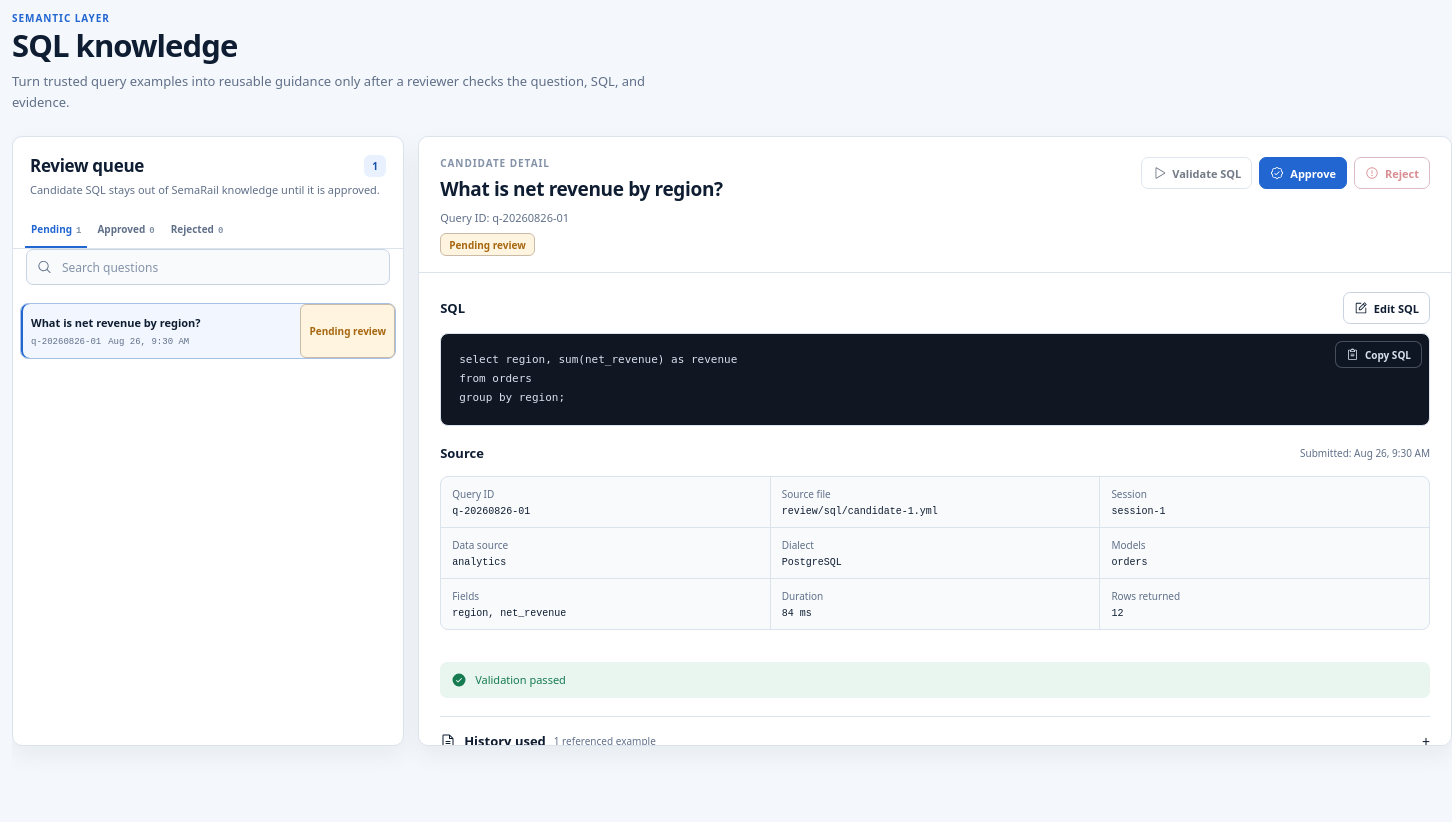
Test case: SqlKnowledgeWorkbench › invalidates stale validation whenever reviewed SQL is edited
Expected: the button "Approve" is enabled, [1259,157,1347,189]
Click the button "Edit SQL" at (1386, 308), box [1343,292,1430,324]
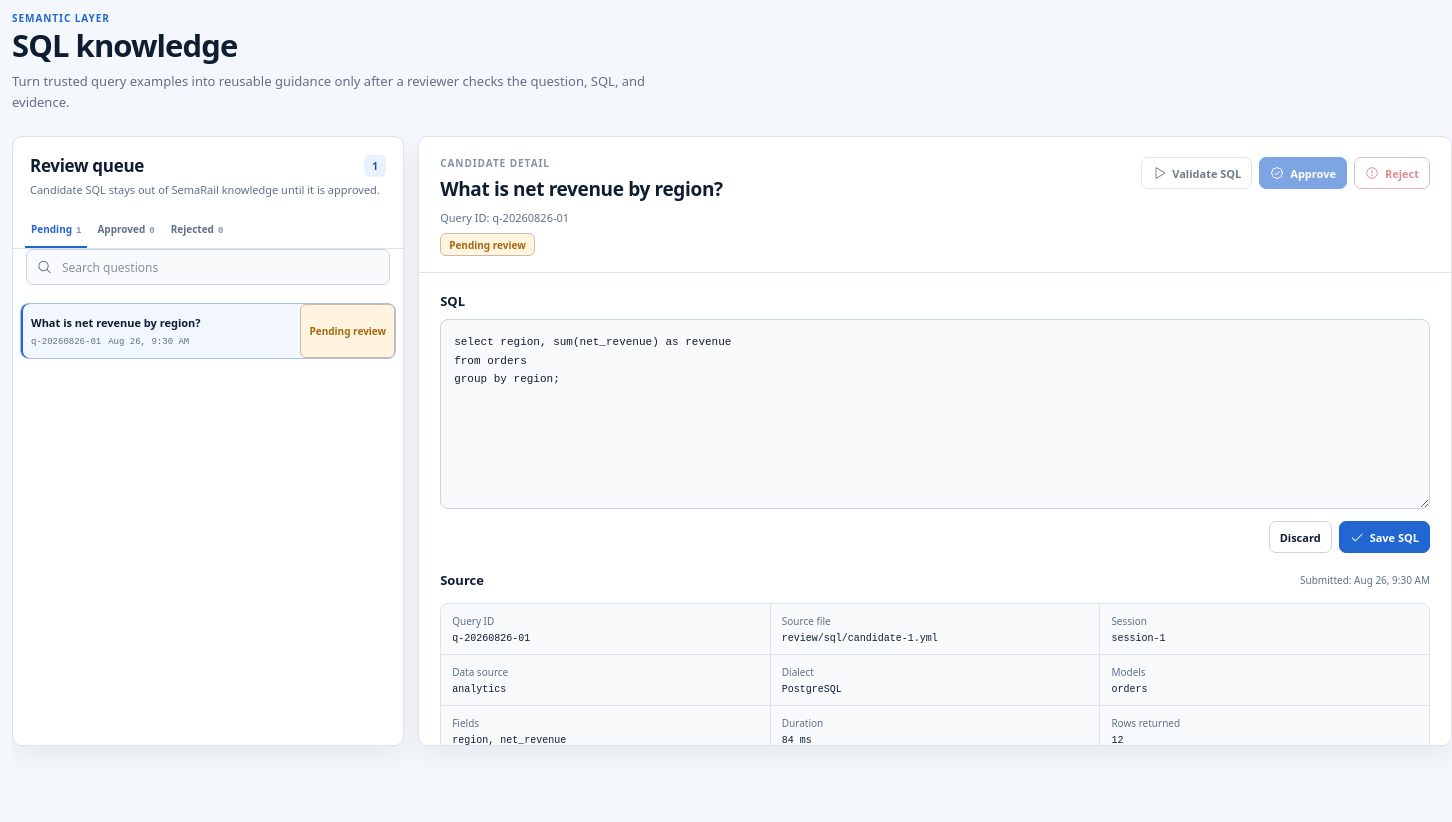
Expected: the button "Approve" is disabled, [1259,157,1347,189]
Replace the text in the text box named "SQL" with "select 1;" at (935, 414), box [440,319,1430,509]
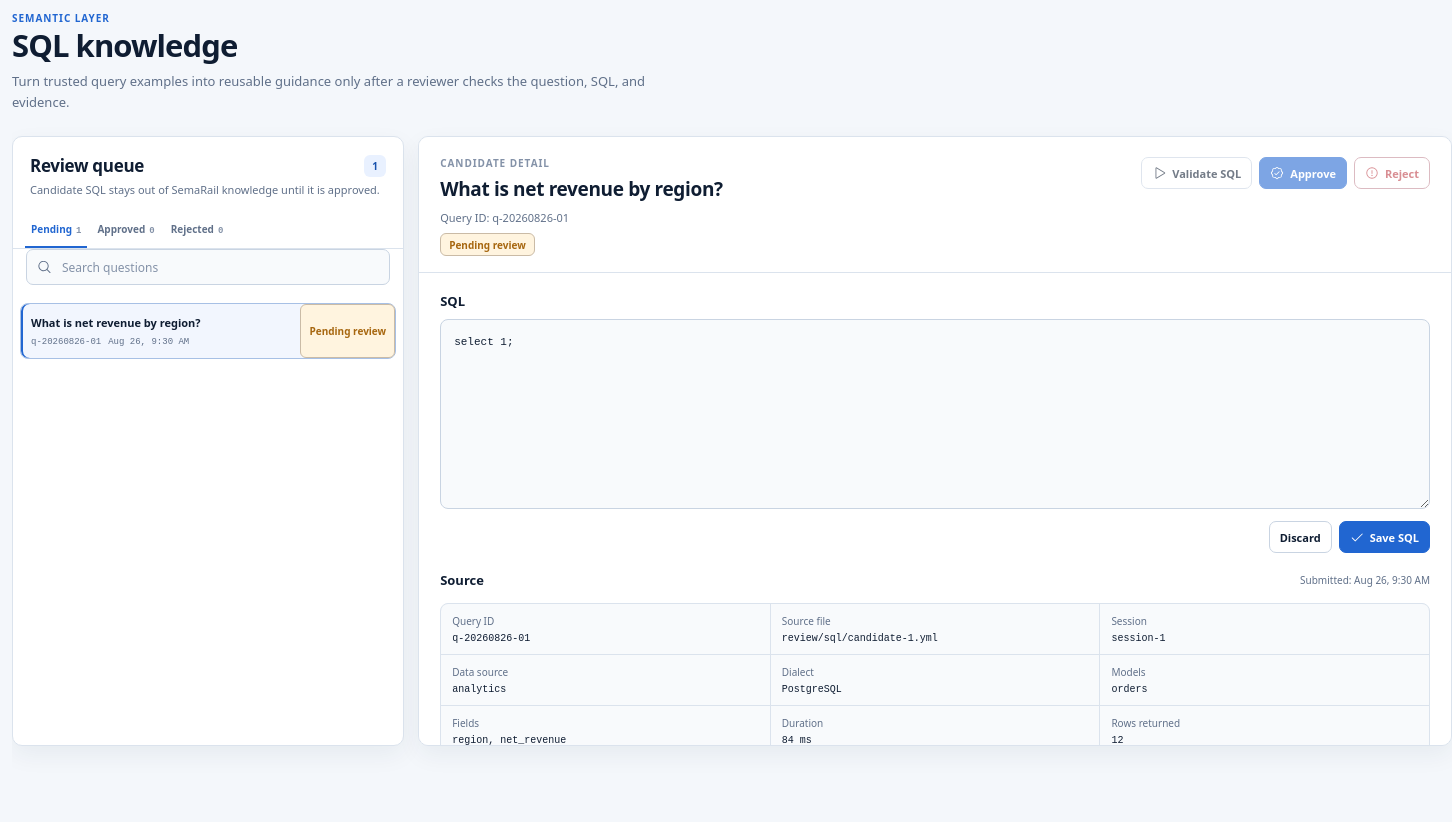
Click the button "Save SQL" at (1384, 537), box [1339,521,1430,553]
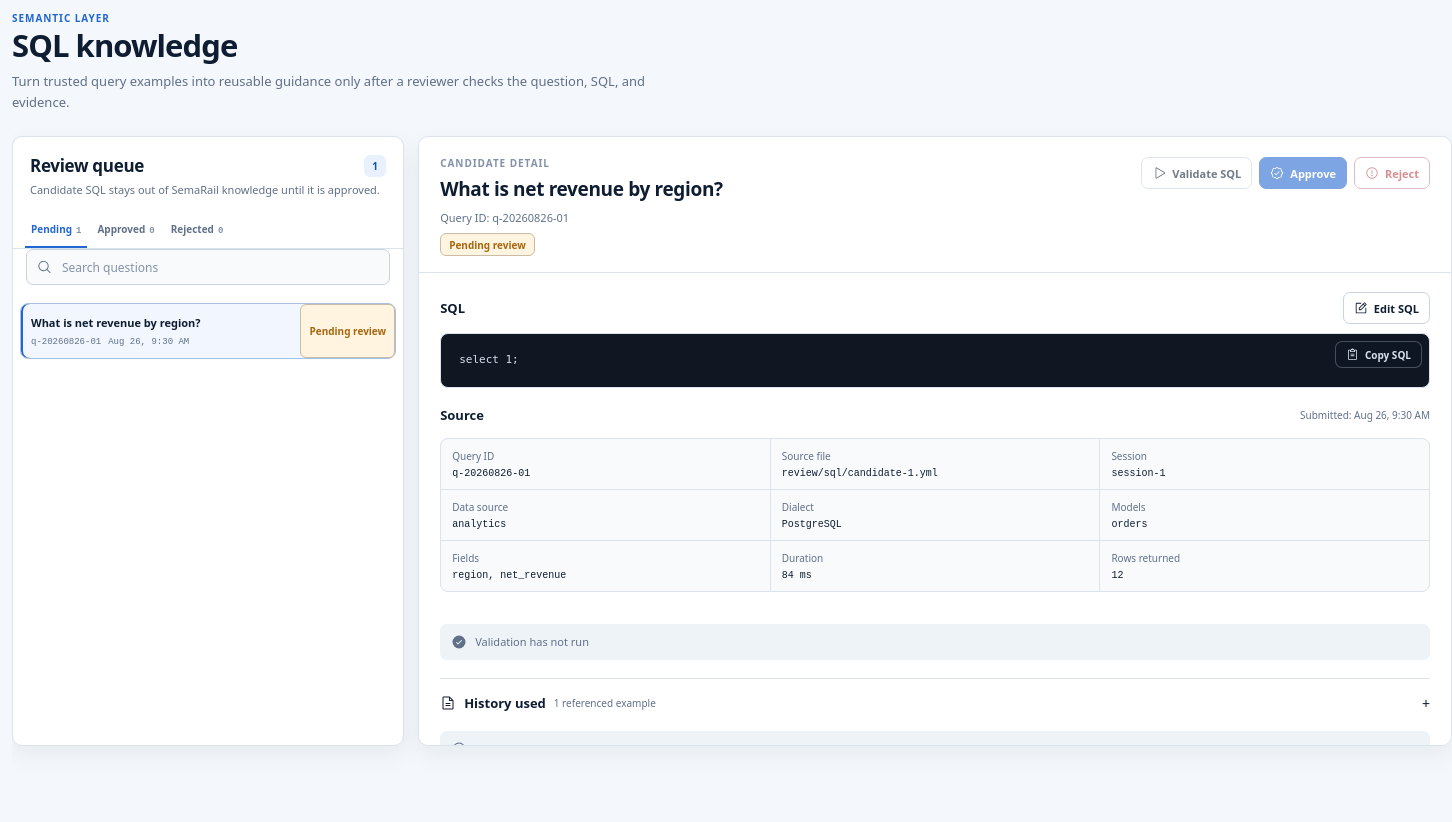
Expected: the button "Approve" is disabled, [1259,157,1347,189]
Expected: the text "Validation has not run" is shown, [475,634,589,650]
